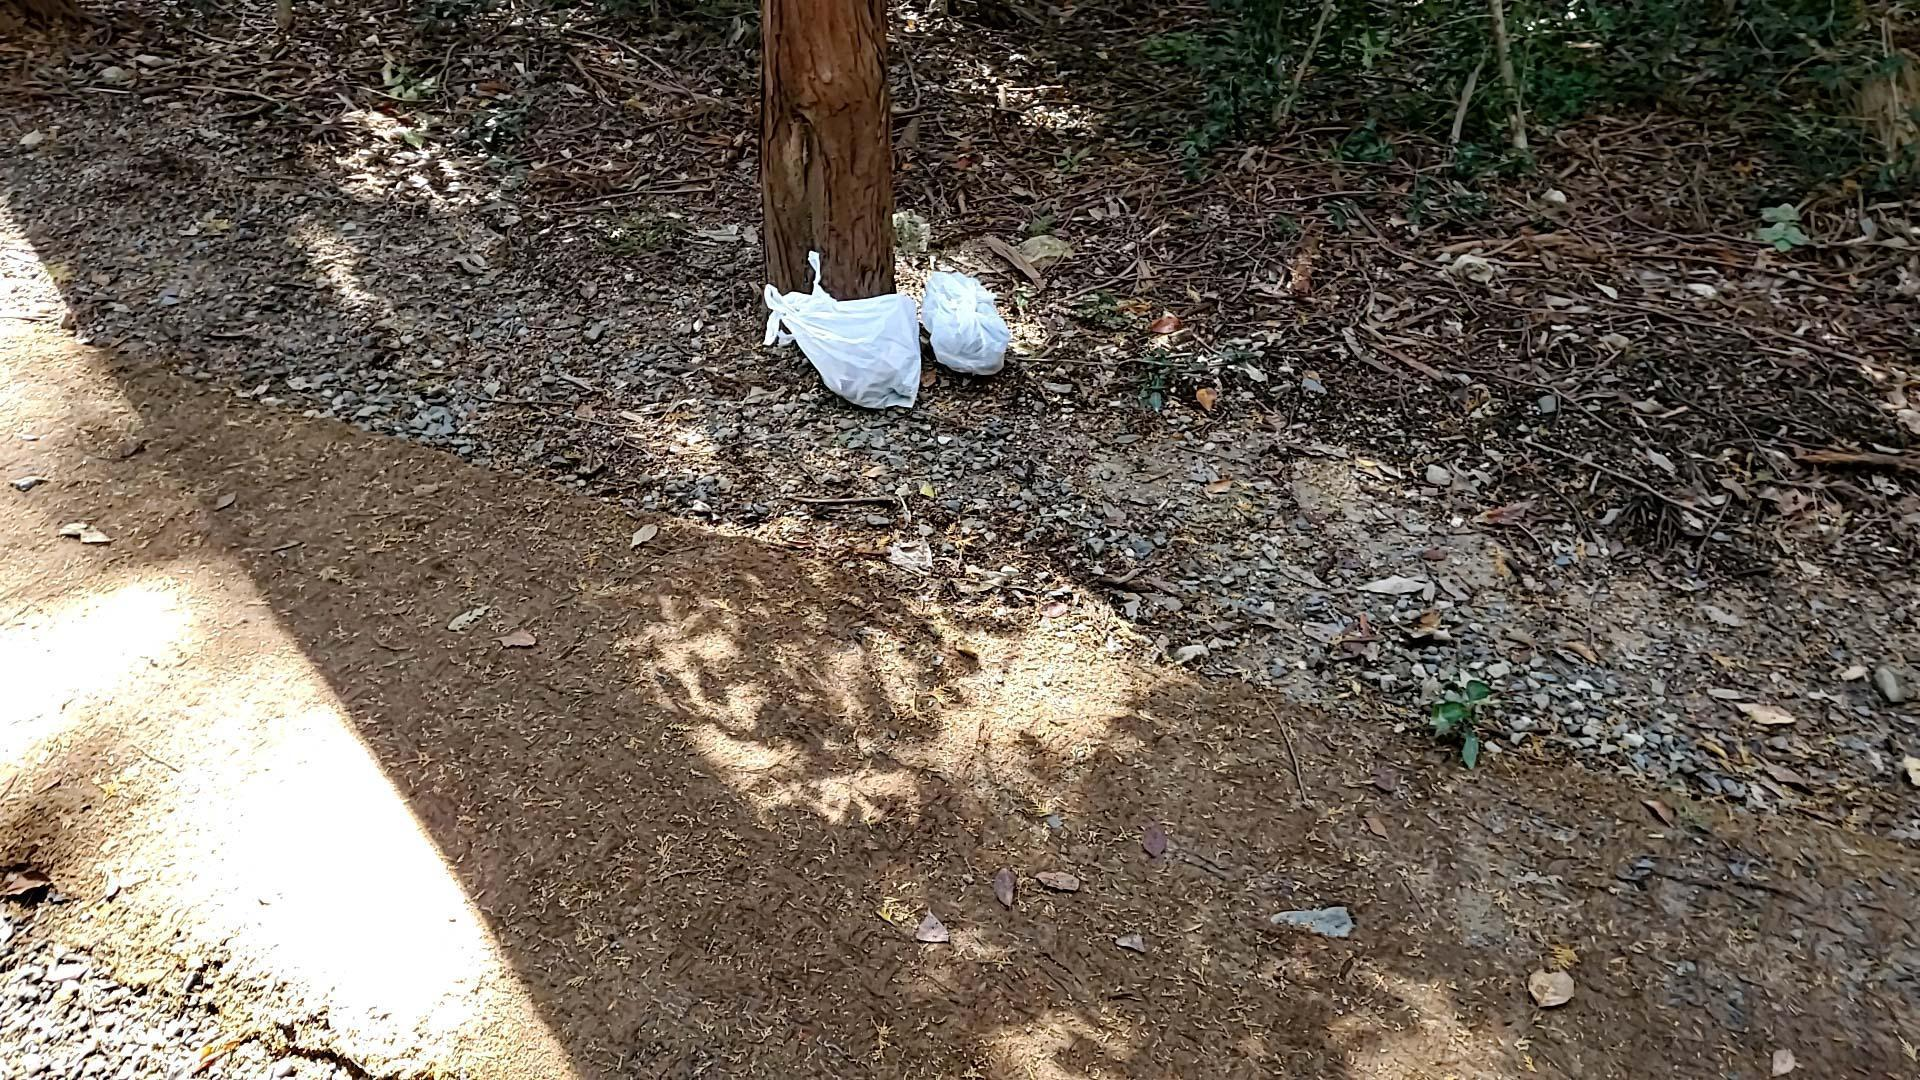white_bag: (748, 244, 924, 425), (913, 264, 1015, 382)
